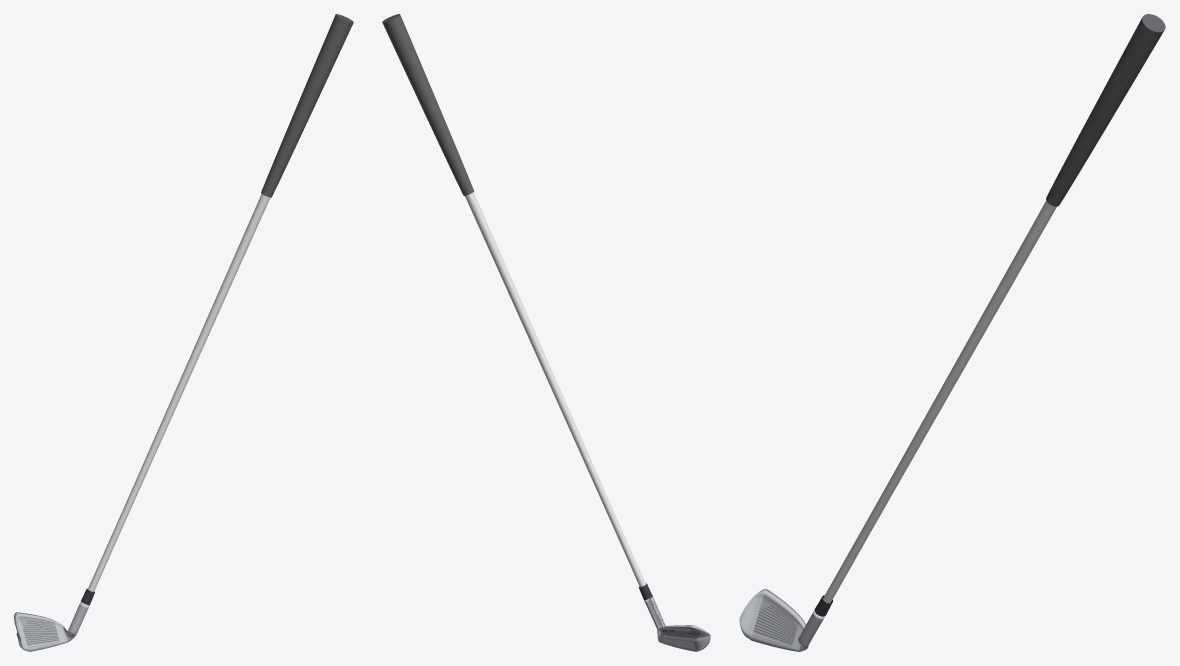
3 views of the same model, side by side, from view 1: azimuth 30°, elevation 25°; view 2: azimuth 150°, elevation 25°; view 3: azimuth 330°, elevation 25° (orthographic). The views are drawn at different scales.
Parts seen in each view (by area): view 1: Shaft_AR, Grip_AR, 301-cb; view 2: Shaft_AR, Grip_AR, 301-cb; view 3: Shaft_AR, Grip_AR, 301-cb.
Boxes of the visible parts, x1,y1,x2,y2 form: Shaft_AR: (87, 194, 269, 592); Grip_AR: (261, 14, 353, 197); 301-cb: (14, 601, 89, 651); Shaft_AR: (465, 192, 645, 587); Grip_AR: (382, 14, 474, 195); 301-cb: (644, 596, 710, 651); Shaft_AR: (822, 200, 1056, 603); Grip_AR: (1046, 14, 1165, 206); 301-cb: (739, 589, 825, 651).
Size of the model in its own units: 0.5159 by 0.8393 by 0.0505.
Materials: 4 (1 with a texture image).
